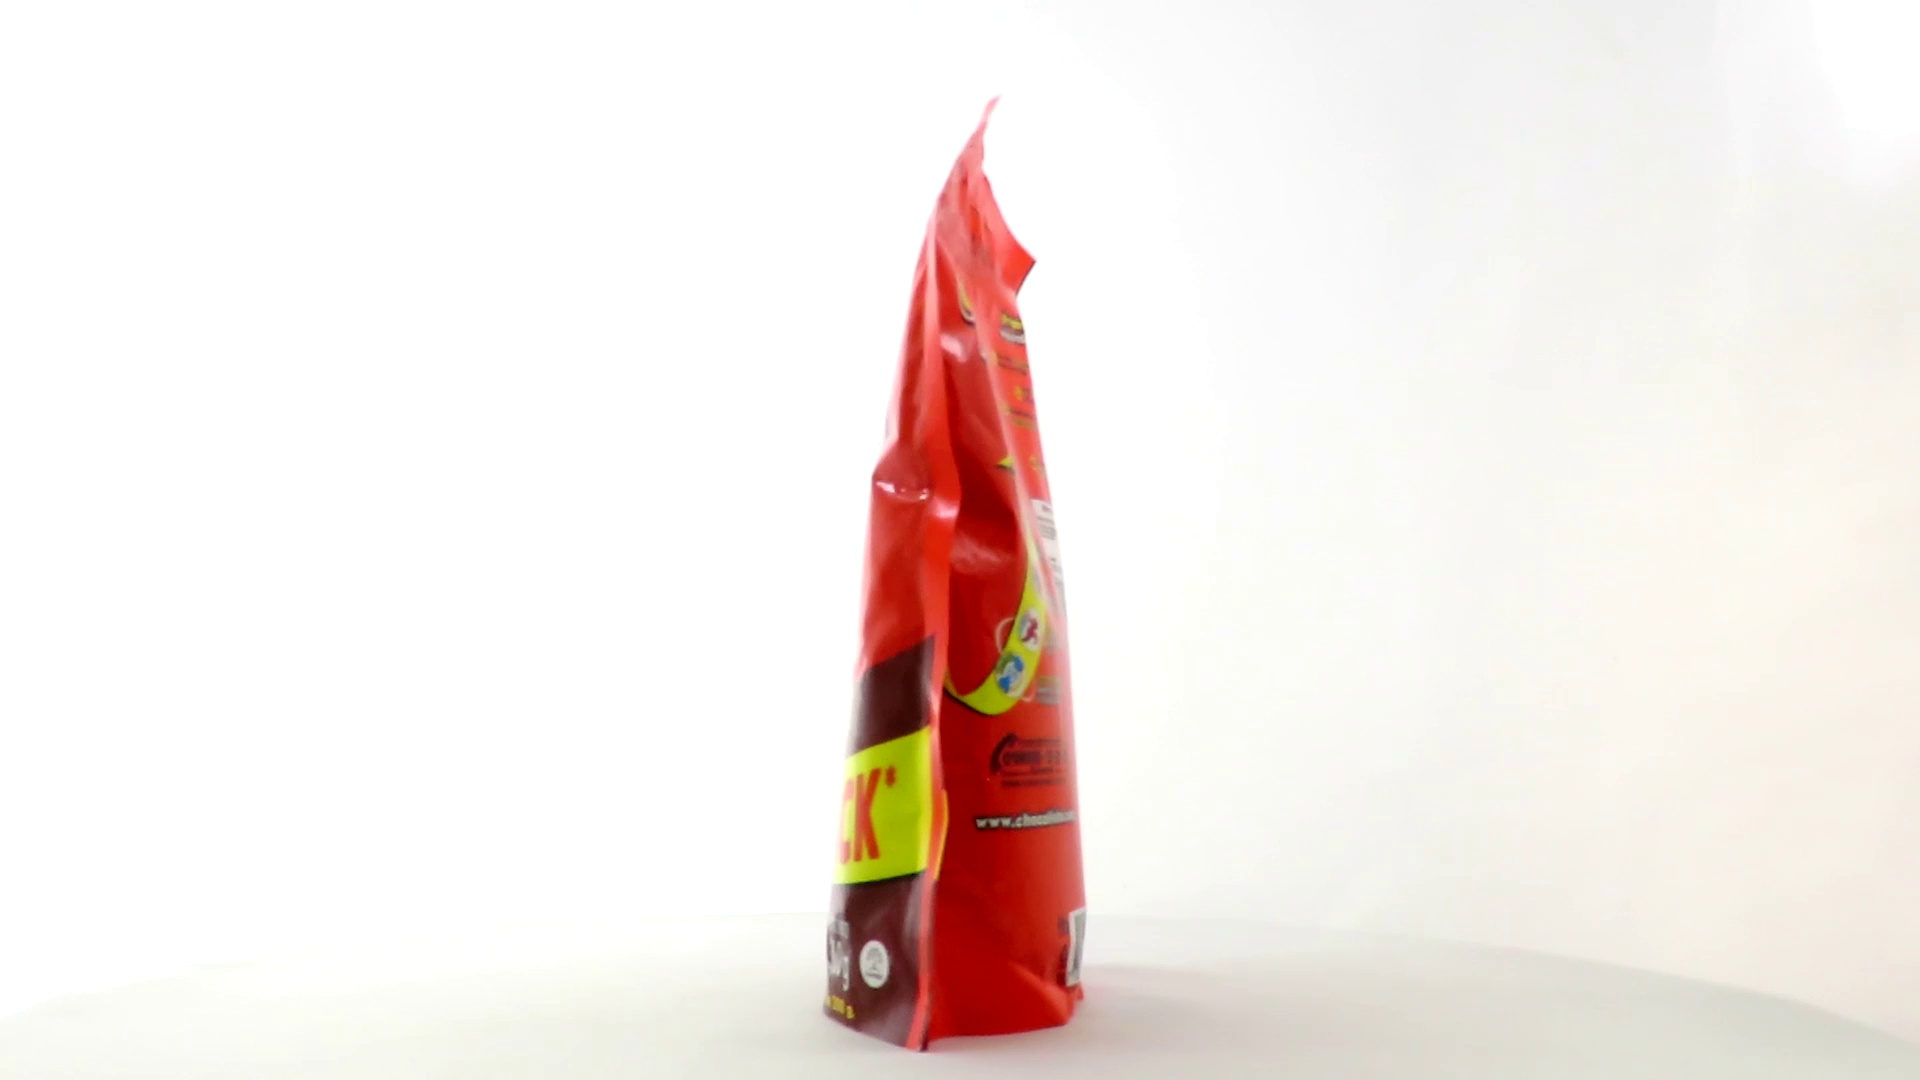COL0170103DYP36000: (698, 92, 1093, 1060)
